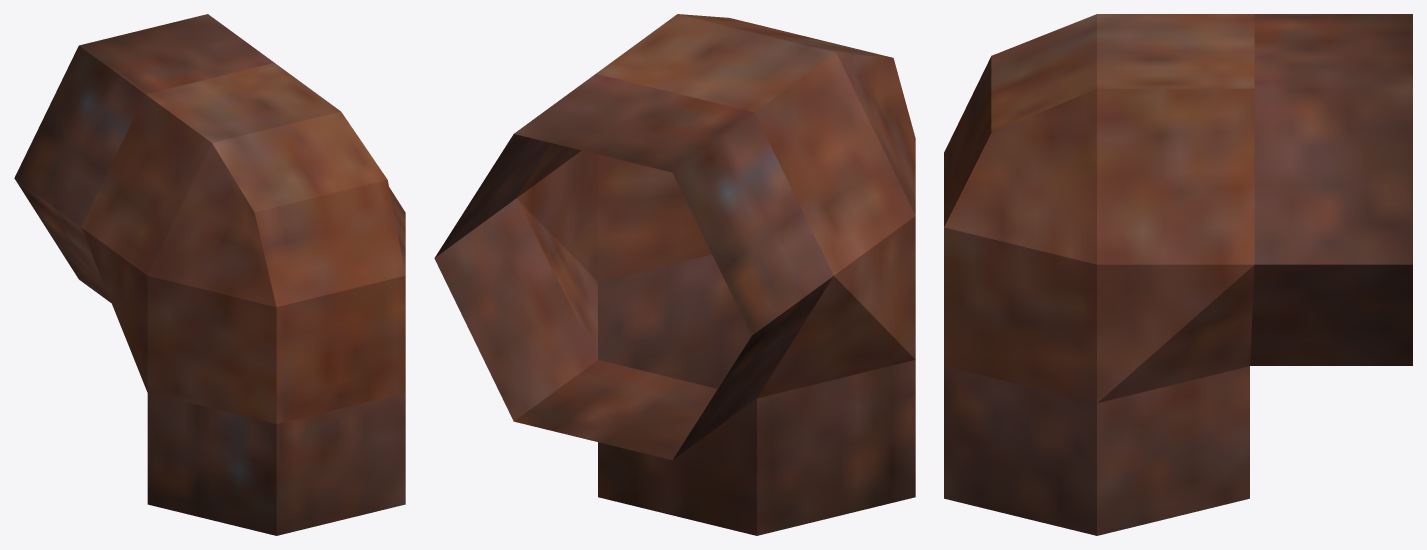
Rendered from MESH_PIPE_BIG_2.fbx.
3 renders of one model, left to right at view 1: azimuth 30°, elevation 25°; view 2: azimuth 150°, elevation 25°; view 3: azimuth 270°, elevation 25°, orthographic. The views are drawn at different scales.
Parts seen in each view (by area): view 1: MESH_PIPE_BIG_2; view 2: MESH_PIPE_BIG_2; view 3: MESH_PIPE_BIG_2.
Boxes of the visible parts, bbox=[...] form: MESH_PIPE_BIG_2: bbox=[14, 14, 405, 535]; MESH_PIPE_BIG_2: bbox=[434, 14, 915, 535]; MESH_PIPE_BIG_2: bbox=[944, 14, 1412, 535].
Size of the model in its own units: 0.58 by 0.7423 by 0.7694.
